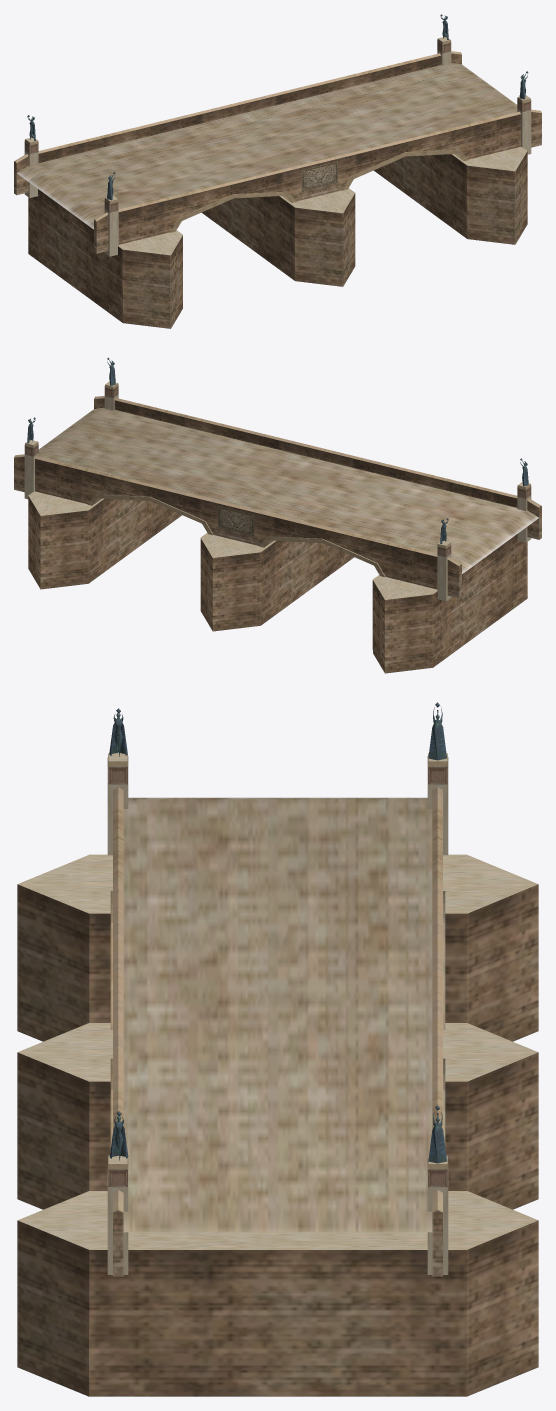
Rendered from thm_nboo_thed_imprv_bridge_s01_l1.fbx.
The picture shows the model from 3 angles, top to bottom: view 1: azimuth 30°, elevation 25°; view 2: azimuth 150°, elevation 25°; view 3: azimuth 270°, elevation 25°; orthographic projection. The views are drawn at different scales.
Visible parts, largest first — view 1: mesh_node; view 2: mesh_node; view 3: mesh_node.
Boxes of the visible parts, x1,y1,x2,y2 form: mesh_node: (14,14,541,328); mesh_node: (14,357,541,673); mesh_node: (17,702,538,1396).
Bounding box in the file's own units: 50.06 × 15.69 × 25.34.
1 material, 1 textured.
